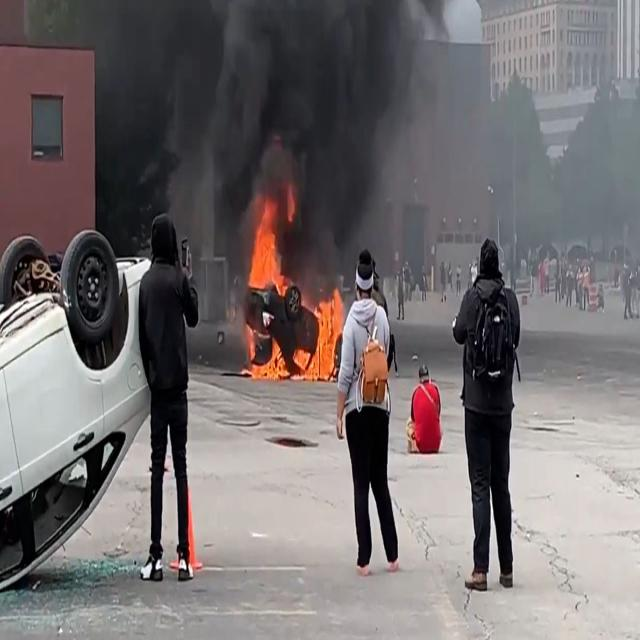fire: (249, 199, 288, 297), (314, 288, 342, 381)
